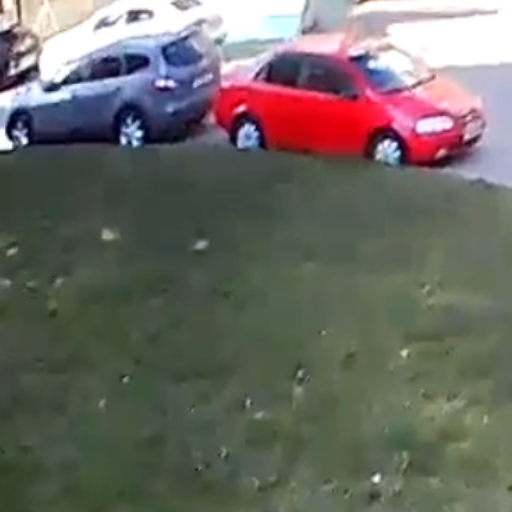Car: (209, 39, 484, 173), (8, 30, 212, 149), (37, 1, 231, 76)
